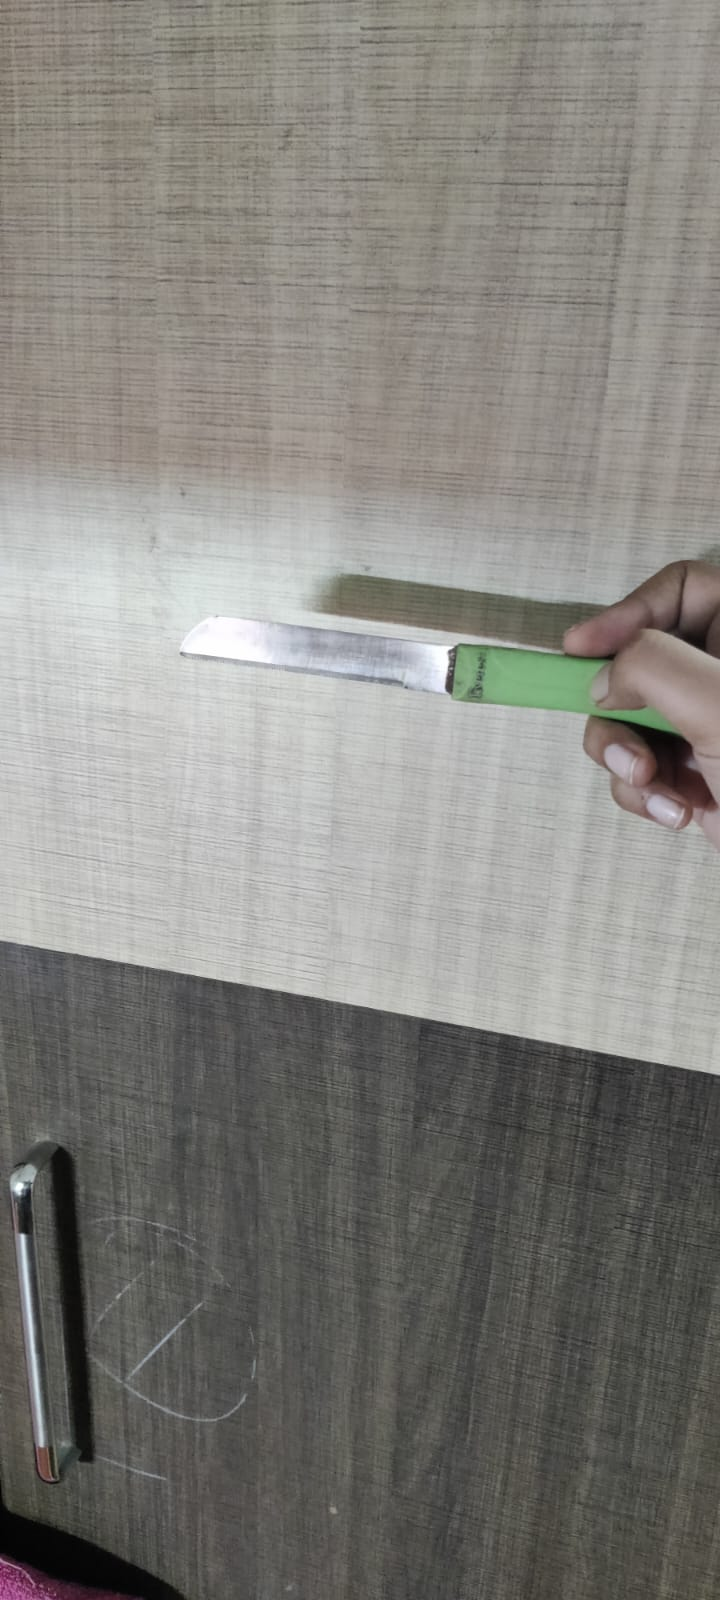knife: (174, 601, 680, 738)
